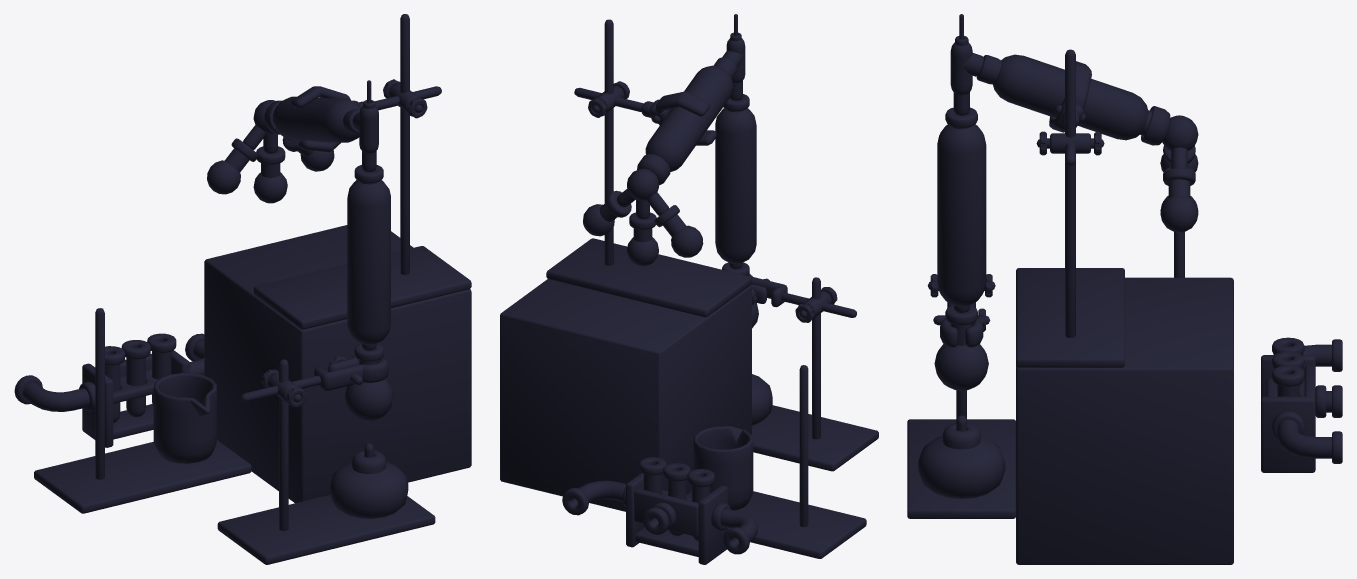
The model's file is Constructing_Fractional_Distiller.fbx.
3 views of the same model, side by side, from view 1: azimuth 30°, elevation 25°; view 2: azimuth 150°, elevation 25°; view 3: azimuth 270°, elevation 25° (orthographic). The views are drawn at different scales.
Visible parts, largest first — view 1: Stand_Base001; view 2: Stand_Base001; view 3: Stand_Base001.
Boxes of the visible parts, left/top/right/bottom form: Stand_Base001: left=14, top=14, right=471, bottom=564; Stand_Base001: left=500, top=14, right=878, bottom=564; Stand_Base001: left=907, top=14, right=1342, bottom=564.
Size of the model in its own units: 400 by 500 by 400.
